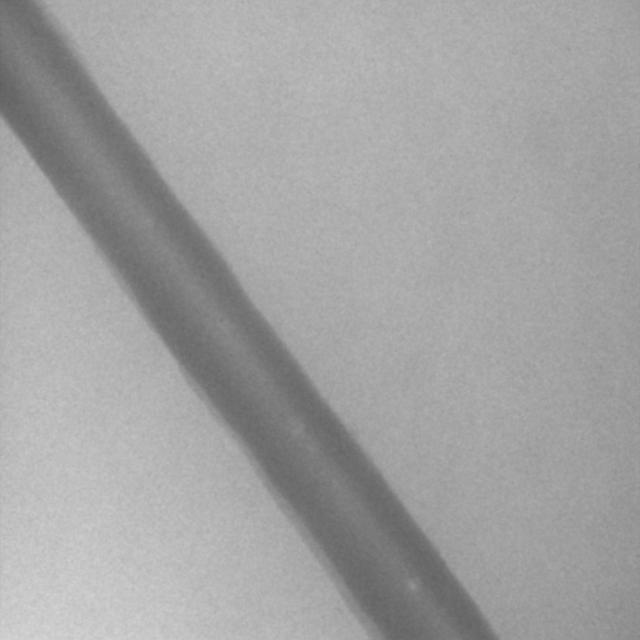air-hole: (290, 419, 302, 434), (406, 575, 418, 587)
